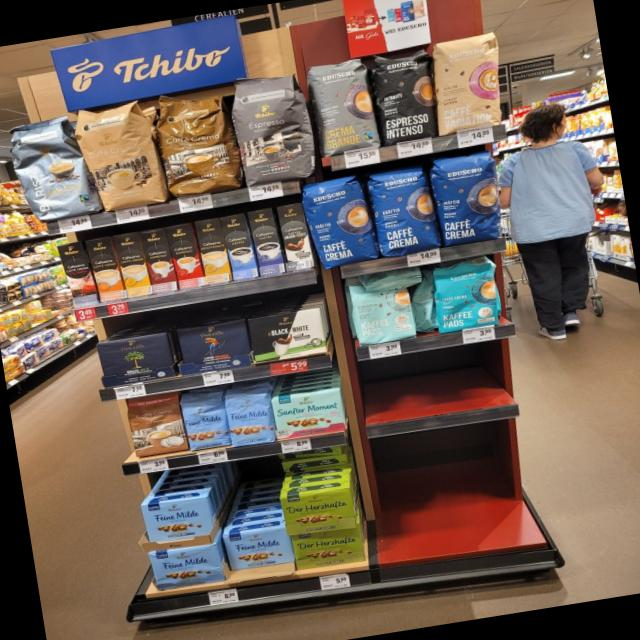BM Gemahlen: (96, 331, 177, 389)
BW Gemahlen: (245, 306, 330, 364)
Barista CC: (0, 113, 99, 224)
CC Mild: (72, 99, 163, 214)
CC Vollmundig: (123, 390, 191, 460)
CC Vollmundig 36 Pads: (150, 85, 240, 200)
Espresso Aromatisch: (226, 64, 322, 187)
FM Bohne: (178, 385, 234, 453), (224, 384, 278, 450)
FM Gemahlen: (140, 495, 215, 549), (146, 543, 227, 592), (221, 525, 296, 572)
Herzhatfe Mundig: (279, 484, 358, 536), (289, 528, 368, 571)
LG Gemahlen: (175, 317, 256, 376)
SM Gemahlen: (270, 387, 346, 442)
Simo CC Colombia: (54, 238, 100, 310)
Simo CCMild bigpack: (110, 230, 153, 301)
Simo CCVollmundig bigpack: (84, 235, 127, 304)
Simo Decaff: (192, 216, 235, 286)
Simo Es Elegant: (164, 221, 208, 291)
Simo Es Kraft: (138, 226, 180, 297)
Simo Kaffee BW: (275, 202, 317, 273)
Simo Kaffee Kraft: (245, 206, 287, 277)
Simo Kaffee Mild: (220, 211, 260, 282)
